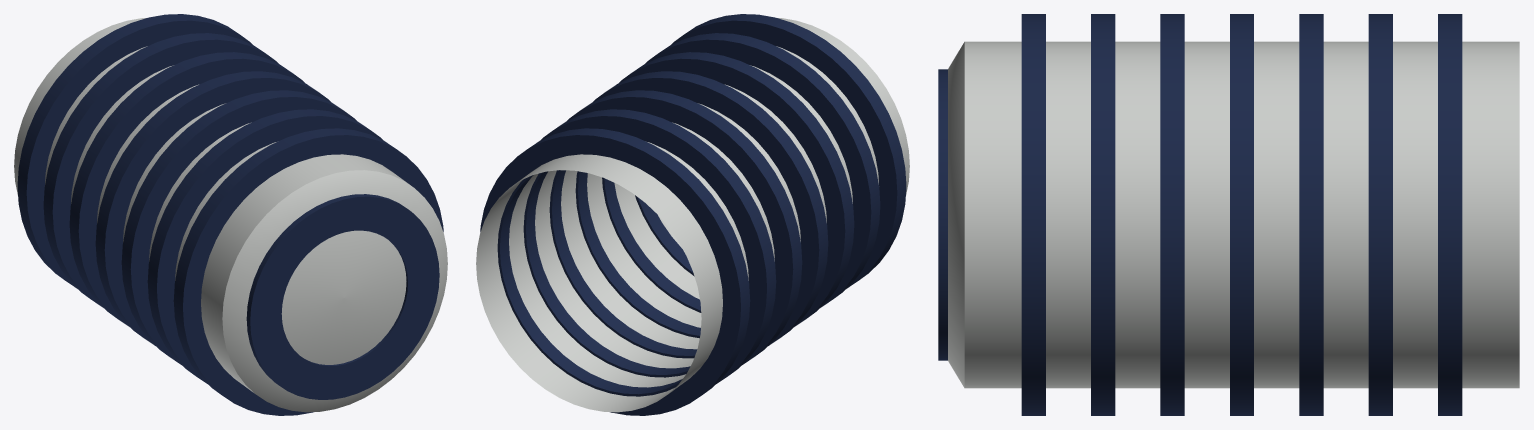
File: s200_vessel.obj
The picture shows the model from 3 angles, left to right: view 1: azimuth 30°, elevation 25°; view 2: azimuth 150°, elevation 25°; view 3: azimuth 270°, elevation 25°; orthographic projection. The views are drawn at different scales.
Visible parts, largest first — view 1: s200_vessel; view 2: s200_vessel; view 3: s200_vessel.
Boxes of the visible parts, bbox=[...] form: s200_vessel: bbox=[14, 14, 447, 415]; s200_vessel: bbox=[476, 14, 909, 415]; s200_vessel: bbox=[938, 14, 1519, 415].
Bounding box in the file's own units: 1.16 × 1.16 × 1.68.
